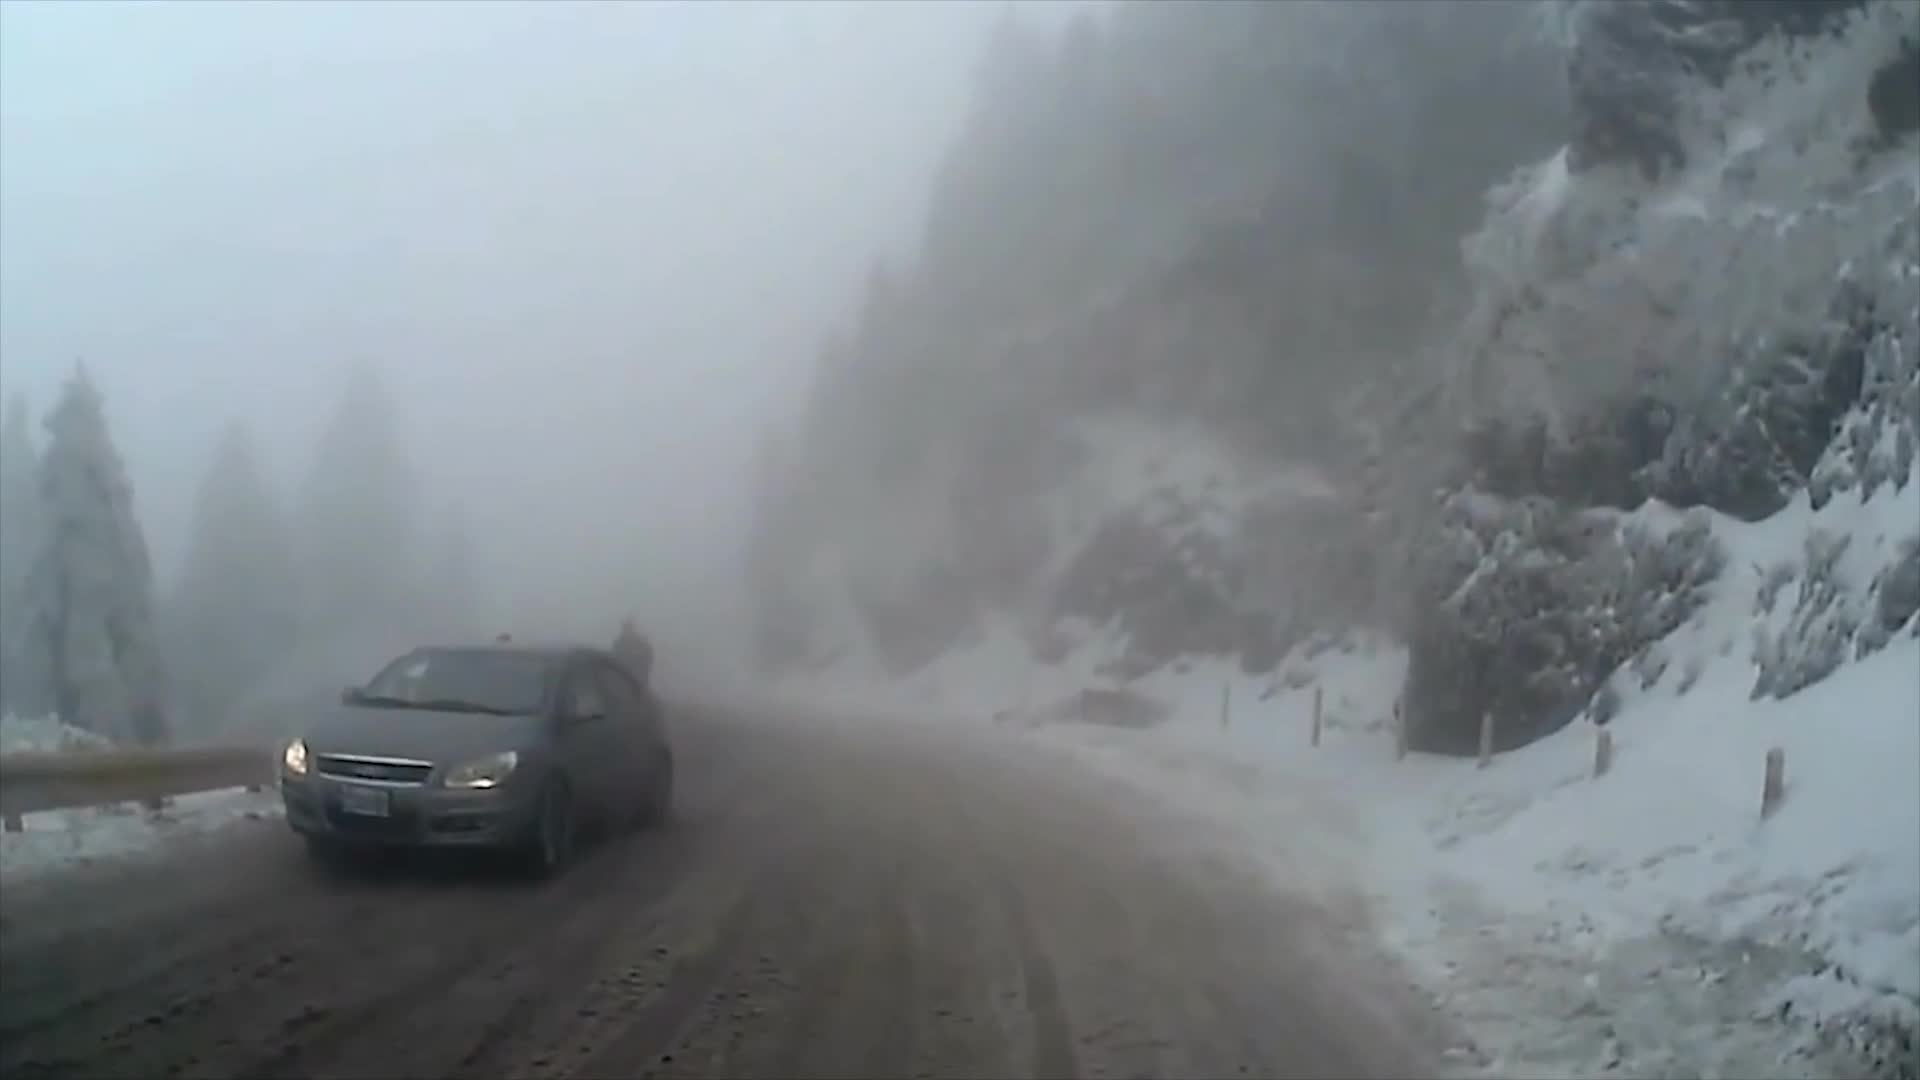vehicle: (276, 638, 675, 880)
